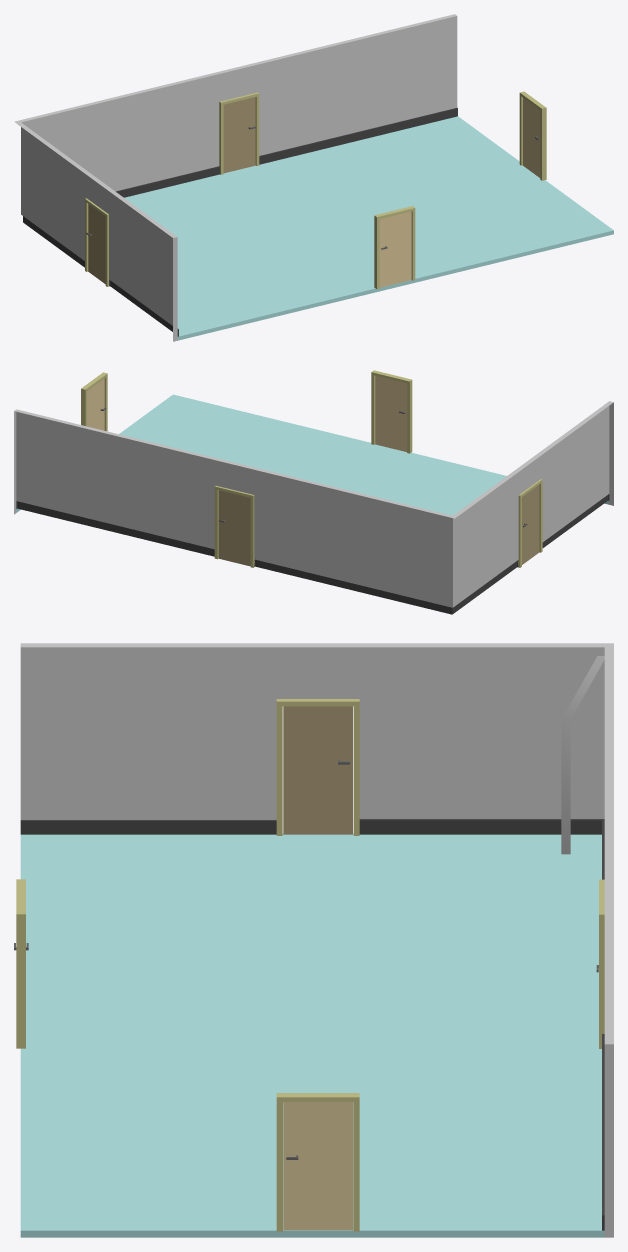
File: large4wayRoom.fbx
3 views of the same model, one above another, from view 1: azimuth 30°, elevation 25°; view 2: azimuth 150°, elevation 25°; view 3: azimuth 270°, elevation 25° (orthographic). The views are drawn at different scales.
Visible parts, largest first — view 1: room, door (×4), doorFrame (×4); view 2: room, door (×4), doorFrame (×4); view 3: room, door (×2), doorFrame (×4).
Part boxes in pixels (left/top/right/bottom): room: left=14, top=14, right=613, bottom=341; door (×4): left=86, top=97, right=540, bottom=287; doorFrame (×4): left=85, top=91, right=546, bottom=289; room: left=14, top=394, right=613, bottom=614; door (×4): left=87, top=376, right=539, bottom=566; doorFrame (×4): left=81, top=370, right=542, bottom=567; room: left=20, top=643, right=613, bottom=1237; door (×2): left=283, top=706, right=353, bottom=1230; doorFrame (×4): left=16, top=699, right=604, bottom=1231.
Bounding box in the file's own units: 1608 × 360 × 1011.
